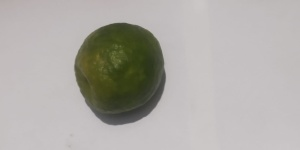BAD: (67, 18, 167, 122)
